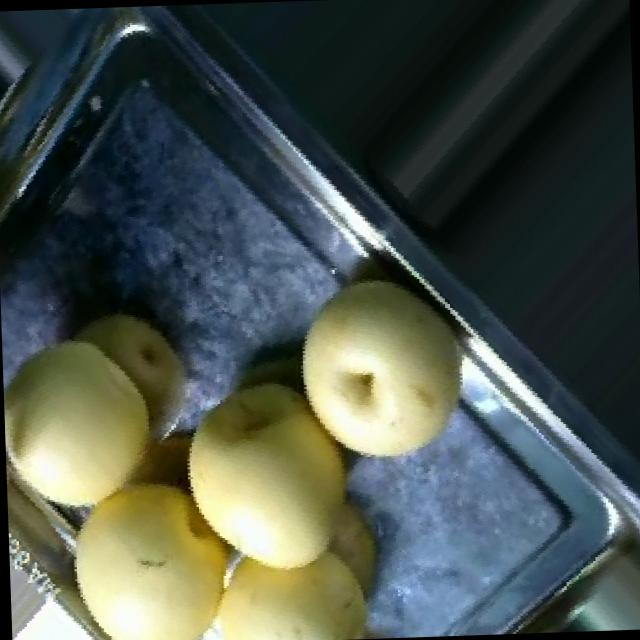Fruit: (255, 242, 508, 498), (140, 348, 396, 592), (32, 444, 267, 640), (0, 299, 176, 539)
